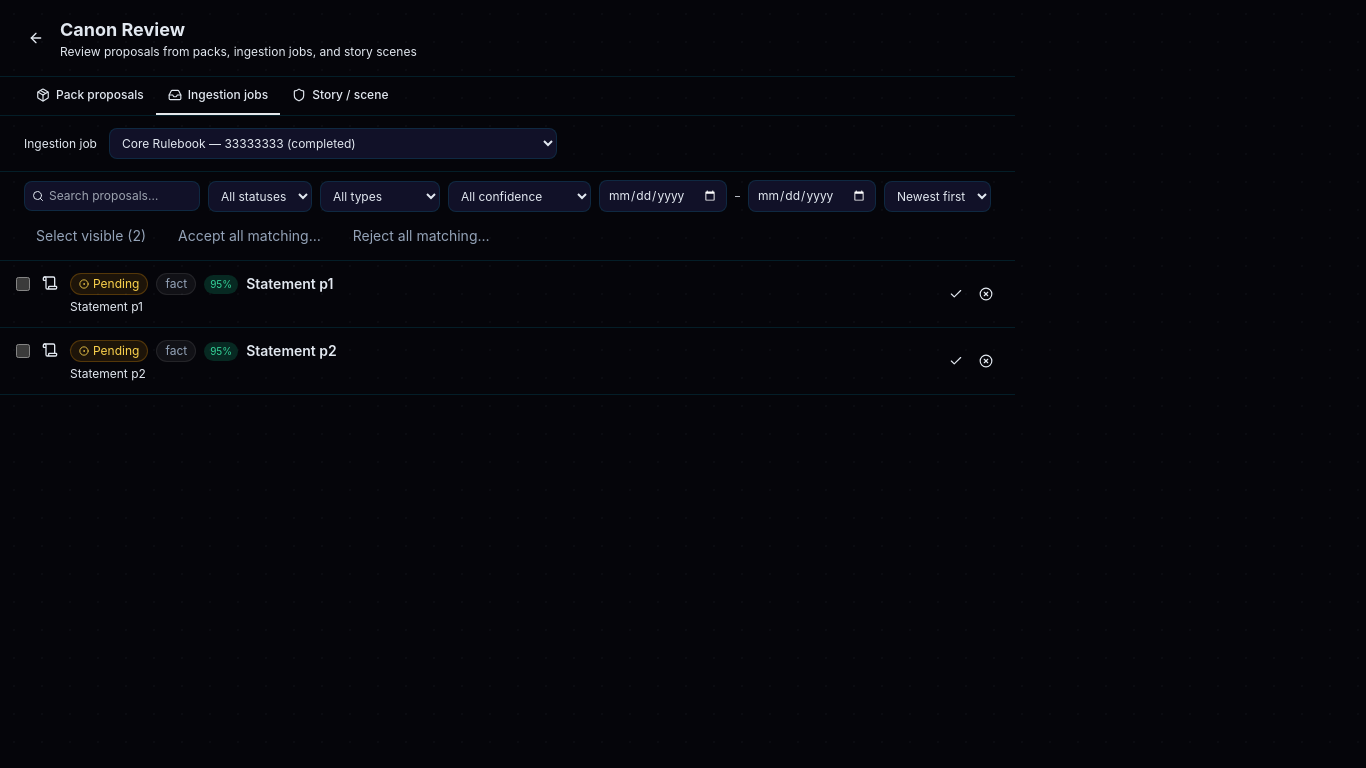
Test: /forge/review — ingestion jobs scope (F1-4a, I-4) › surfaces per-item batch failures
The image size is (1366, 768).
What coordinates should you click on to do the following:
click the button "Select visible (2)"
I would click on:
 (91, 236)
Its box is x1=24 y1=220 x2=158 y2=252.
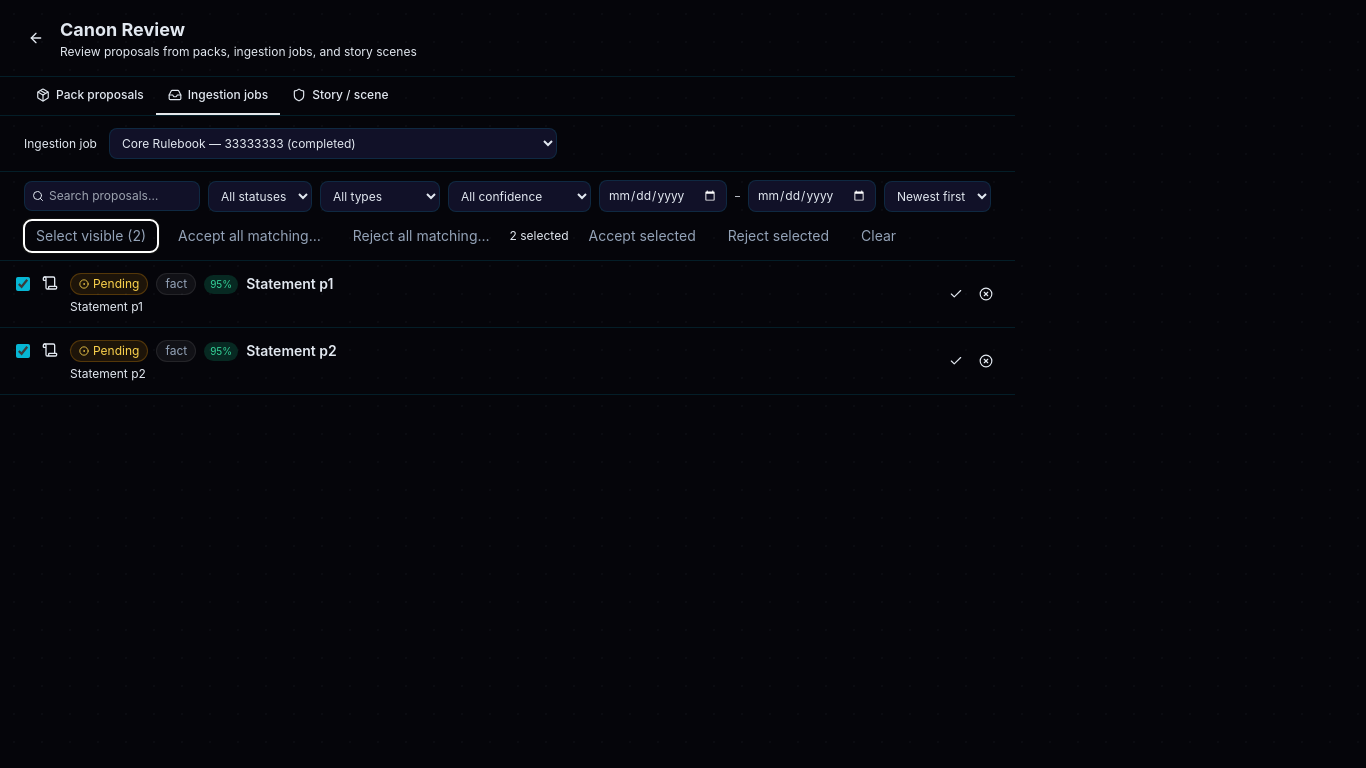
What coordinates should you click on to do the following:
click the button "Accept selected"
I would click on:
 (642, 236)
Its box is x1=576 y1=220 x2=708 y2=252.
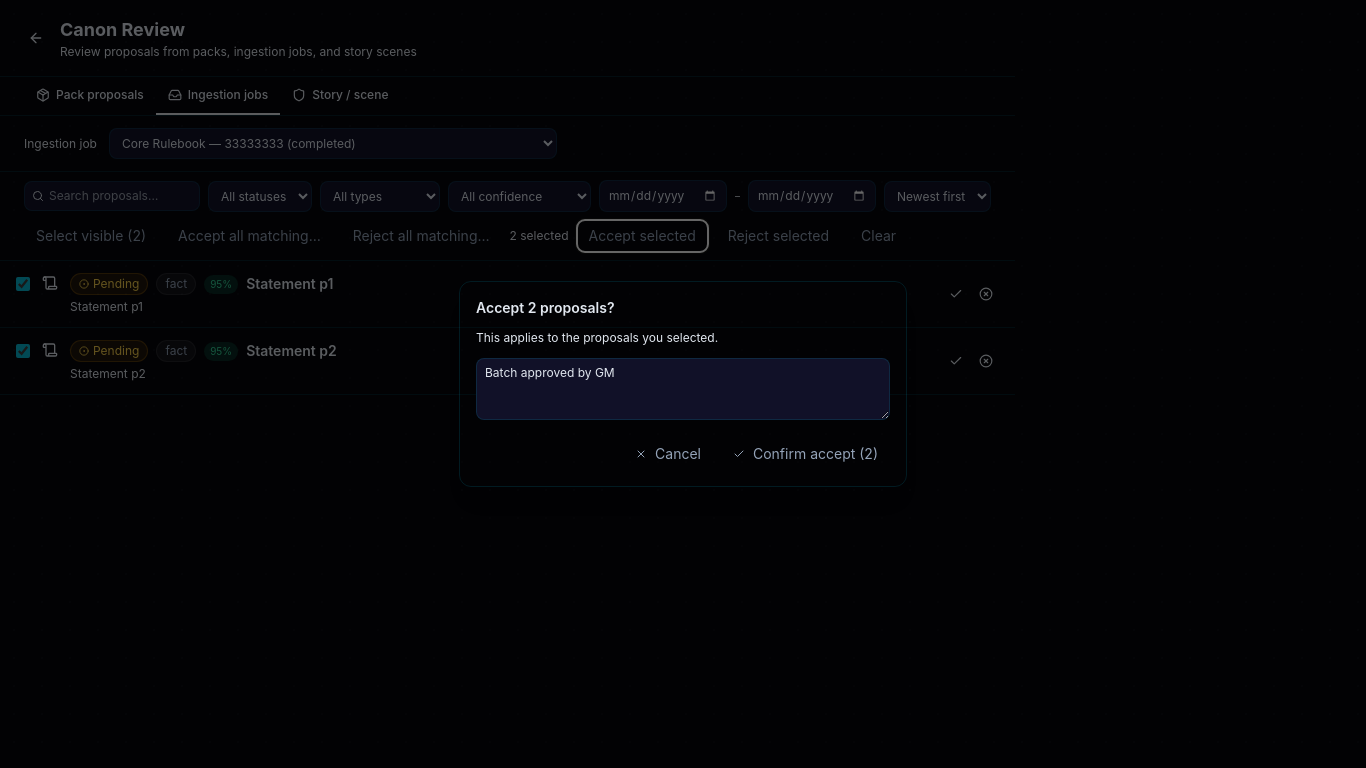
What coordinates should you click on to do the following:
click the button "Confirm accept (2)"
I would click on:
 (806, 454)
Its box is x1=721 y1=438 x2=890 y2=470.
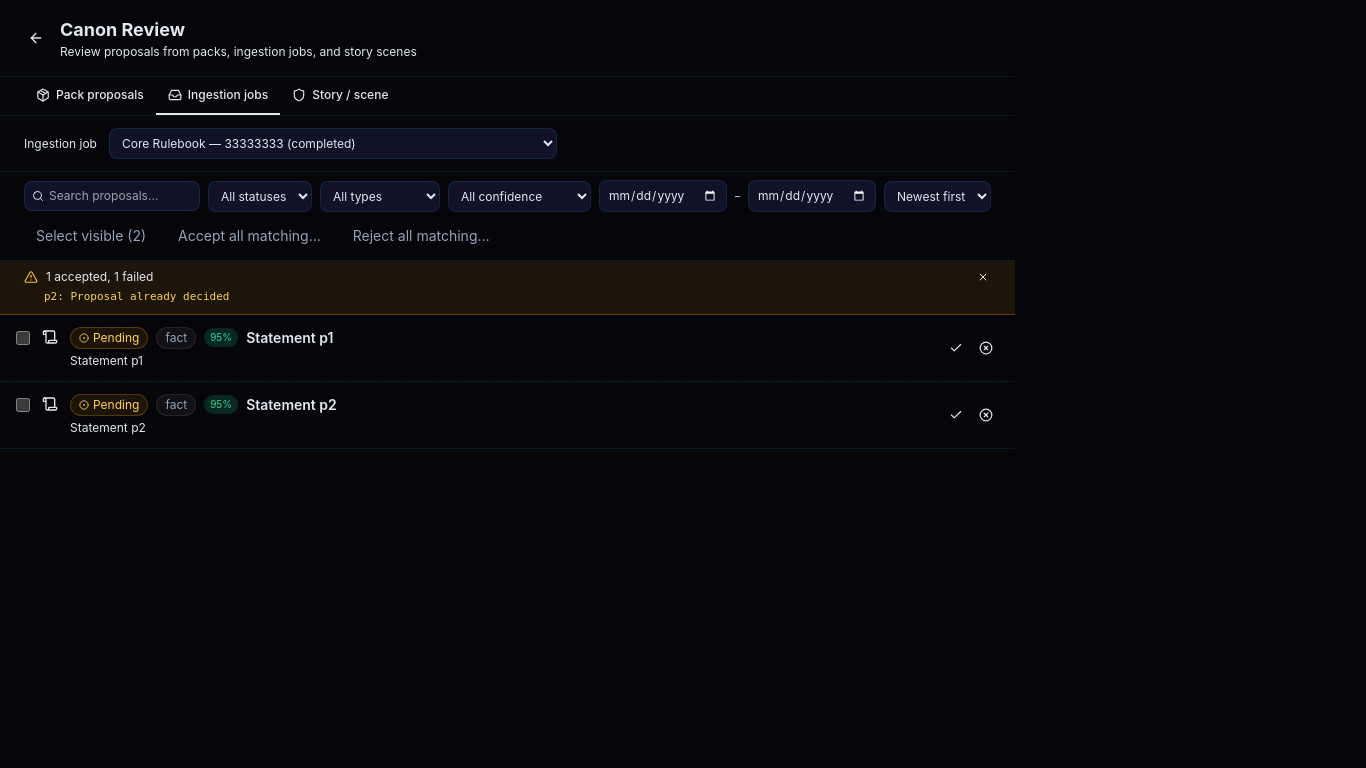
Result: the text "1 accepted, 1 failed" is shown at x1=46 y1=269 x2=154 y2=285
